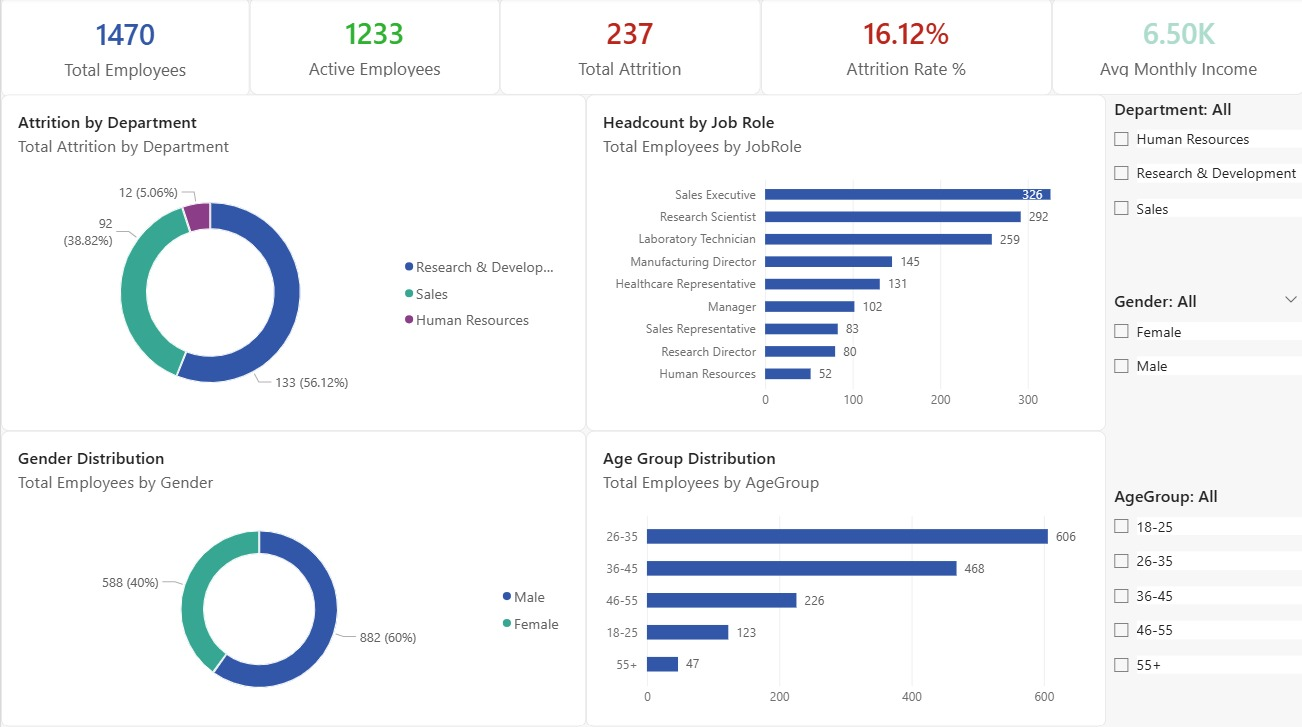

The page's visual inventory and layout, read from the dashboard file:
{"tool":"powerbi","page":{"name":" OVERVIEW","canvas":[1280,720],"ordinal":0},"visuals":[{"type":"card","fields":{"Values":["vw_hr_main.Total Employees"]},"box":[0,0,244.3,98.6],"z":0},{"type":"card","fields":{"Values":["vw_hr_main.Active Employees"]},"box":[244.3,0,245.7,95.7],"z":1000},{"type":"card","fields":{"Values":["vw_hr_main.Total Attrition"]},"box":[490,0,255.7,95.7],"z":2000},{"type":"card","fields":{"Values":["vw_hr_main.Attrition Rate %"]},"box":[745.7,0,285.7,97.1],"z":3000},{"type":"card","fields":{"Values":["vw_hr_main.Avg Monthly Income"]},"box":[1031.4,0,248.6,95.7],"z":4000},{"type":"donutChart","title":"Attrition by Department","fields":{"Category":["vw_hr_main.Department"],"Y":["vw_hr_main.Total Attrition"]},"box":[0,95.7,574.3,330],"z":5000},{"type":"clusteredBarChart","title":"Headcount by Job Role","fields":{"Category":["vw_hr_main.JobRole"],"Y":["vw_hr_main.Total Employees"]},"box":[574.3,95.7,510,330],"z":6000},{"type":"donutChart","title":"Gender Distribution","fields":{"Category":["vw_hr_main.Gender"],"Y":["vw_hr_main.Total Employees"]},"box":[0,425.7,574.3,291.4],"z":7000},{"type":"clusteredBarChart","title":"Age Group Distribution","fields":{"Category":["vw_hr_main.AgeGroup"],"Y":["vw_hr_main.Total Employees"]},"box":[574.3,425.7,510,291.4],"z":8000},{"type":"slicer","title":"Department","fields":{"Values":["vw_hr_main.Department"]},"box":[1084.3,98.6,195.7,178.6],"z":9000},{"type":"slicer","fields":{"Values":["vw_hr_main.Gender"]},"box":[1084.3,287.1,195.7,165.7],"z":10000},{"type":"slicer","fields":{"Values":["vw_hr_main.AgeGroup"]},"box":[1084.3,478.6,195.7,238.6],"z":11000}]}

Visuals, with their boxes in screenshot pixels (x1, y1, x2, y2), scaled from the page's 1280x720 canvas onto the 1302x727 screenshot:
card - vw_hr_main.Total Employees: [0, 0, 248, 100]
card - vw_hr_main.Active Employees: [248, 0, 498, 97]
card - vw_hr_main.Total Attrition: [498, 0, 759, 97]
card - vw_hr_main.Attrition Rate %: [759, 0, 1049, 98]
card - vw_hr_main.Avg Monthly Income: [1049, 0, 1301, 97]
"Attrition by Department" donutChart: [0, 97, 584, 430]
"Headcount by Job Role" clusteredBarChart: [584, 97, 1103, 430]
"Gender Distribution" donutChart: [0, 430, 584, 724]
"Age Group Distribution" clusteredBarChart: [584, 430, 1103, 724]
"Department" slicer: [1103, 100, 1301, 280]
slicer - vw_hr_main.Gender: [1103, 290, 1301, 457]
slicer - vw_hr_main.AgeGroup: [1103, 483, 1301, 724]
